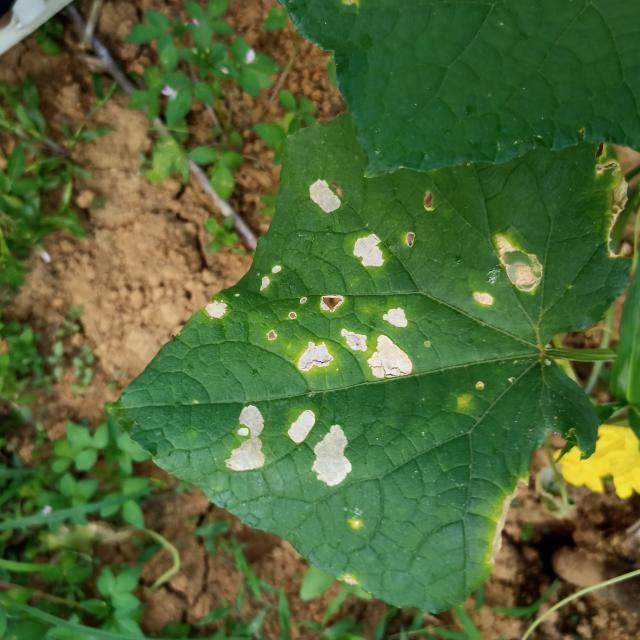disease_cucumber: (296, 294, 414, 384), (470, 233, 545, 307), (286, 408, 354, 489), (223, 403, 267, 475), (308, 177, 346, 215), (352, 232, 385, 269), (255, 263, 284, 295), (203, 296, 230, 324)
